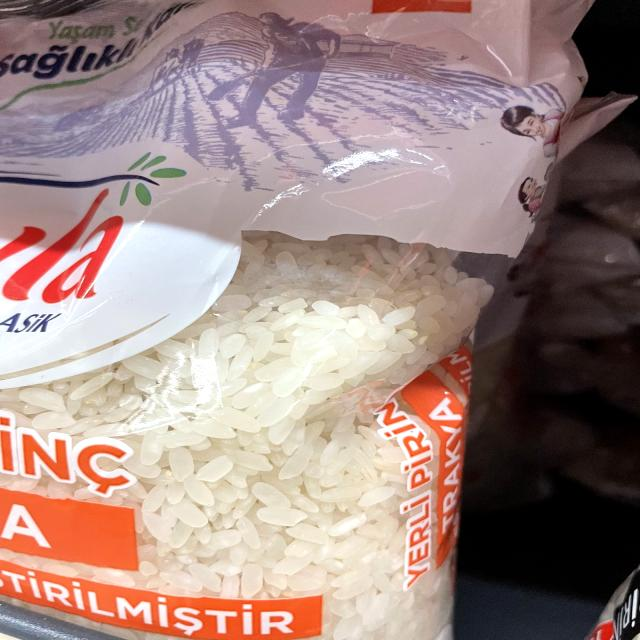rice: (160, 352, 364, 546)
